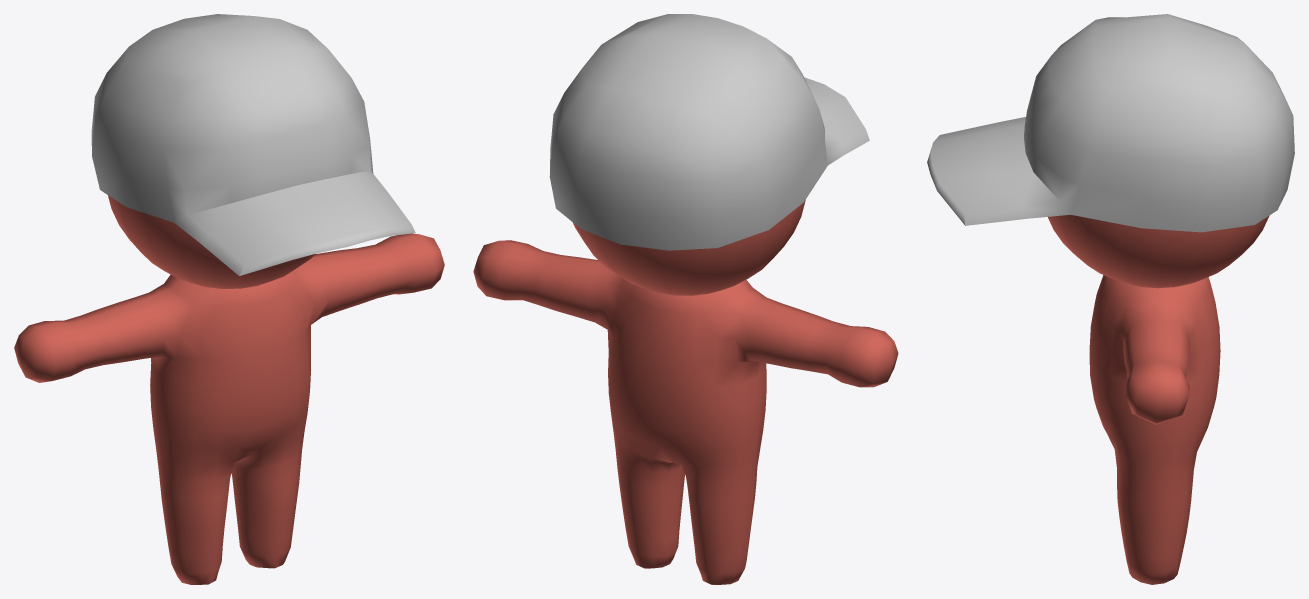
Rendered from nhan_vien_ban_hang.fbx.
3 views of the same model, side by side, from view 1: azimuth 30°, elevation 25°; view 2: azimuth 150°, elevation 25°; view 3: azimuth 270°, elevation 25° (orthographic). The views are drawn at different scales.
Parts seen in each view (by area): view 1: nhan_vien_ban_hang; view 2: nhan_vien_ban_hang; view 3: nhan_vien_ban_hang.
Part boxes in pixels (x1=…): nhan_vien_ban_hang: x1=14, y1=14, x2=444, y2=584; nhan_vien_ban_hang: x1=473, y1=14, x2=898, y2=584; nhan_vien_ban_hang: x1=927, y1=14, x2=1294, y2=584.
Size of the model in its own units: 225 by 278 by 175.
